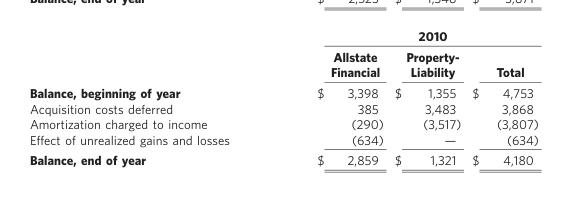table: (28, 28, 537, 166)
table column: (28, 28, 272, 166), (272, 28, 388, 166), (388, 28, 465, 166), (465, 28, 537, 166)
table column header: (28, 28, 537, 82)
table row: (28, 46, 537, 82), (28, 28, 537, 46), (28, 82, 537, 100), (28, 131, 537, 149), (28, 149, 537, 166), (28, 115, 537, 131), (28, 100, 537, 115)
table spanning cell: (272, 28, 537, 46)
